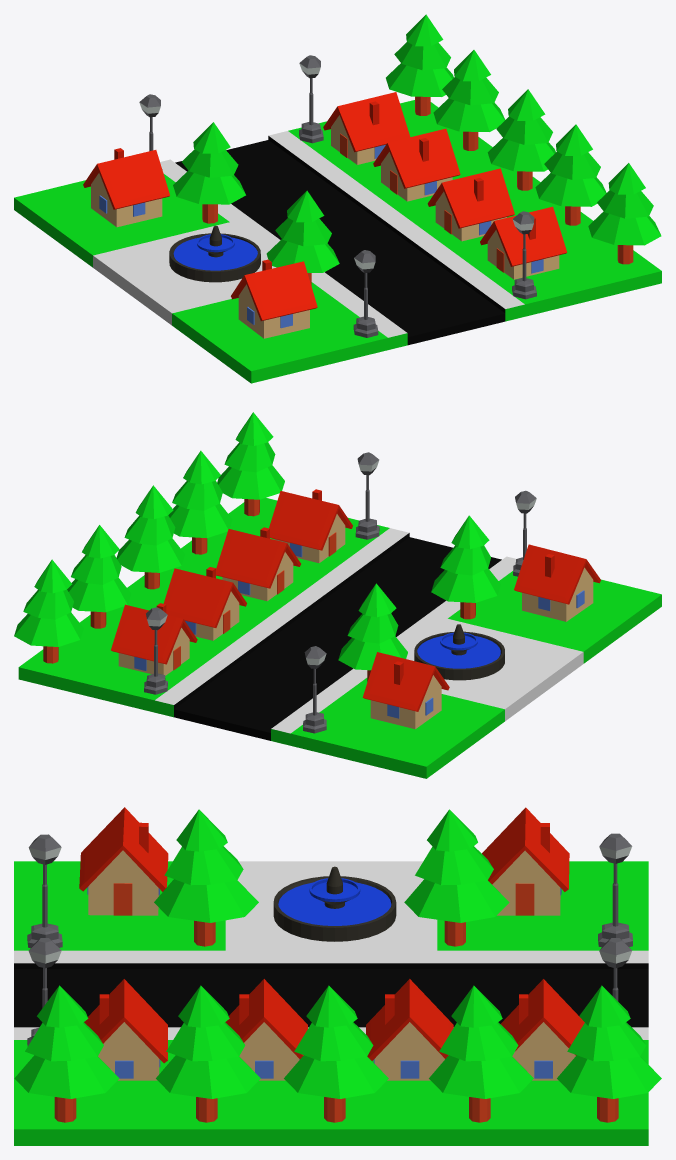
3 renders of one model, top to bottom at view 1: azimuth 30°, elevation 25°; view 2: azimuth 150°, elevation 25°; view 3: azimuth 270°, elevation 25°, orthographic. The views are drawn at different scales.
Visible parts, largest first — view 1: Cube.006_3, Cube.002_5, Cube.003_6, Cube.005_7, Cube.007_8, Cube.001_4, Cube.004_2, Cylinder.003_12, Cylinder.002_11, Cylinder.004_13, Cylinder.006_15, Cylinder_9 (+6 smaller); view 2: Cube.006_3, Cube.002_5, Cube.003_6, Cube.007_8, Cube.004_2, Cube.005_7, Cube.001_4, Cylinder.007_16, Cylinder.001_10, Cylinder.005_14, Cylinder.003_12, Cylinder.006_15 (+7 smaller); view 3: Cube.006_3, Cylinder.003_12, Cylinder.001_10, Cylinder.002_11, Cylinder.004_13, Cylinder.005_14, Cylinder.006_15, Cylinder.007_16, Cube.002_5, Cylinder_9, Cube.003_6, Cube.005_7 (+7 smaller).
Part boxes in pixels (x1,y1,x2,y2): Cube.006_3: [14, 100, 661, 383]; Cube.002_5: [231, 259, 317, 338]; Cube.003_6: [83, 148, 169, 227]; Cube.005_7: [373, 128, 460, 201]; Cube.007_8: [427, 168, 514, 241]; Cube.001_4: [323, 92, 410, 164]; Cube.004_2: [480, 206, 567, 279]; Cylinder.003_12: [588, 163, 661, 264]; Cylinder.002_11: [173, 122, 245, 223]; Cylinder.004_13: [535, 124, 606, 225]; Cylinder.006_15: [433, 50, 505, 150]; Cylinder_9: [169, 225, 260, 282]; Cube.006_3: [18, 498, 661, 778]; Cube.002_5: [514, 544, 600, 621]; Cube.003_6: [362, 652, 449, 729]; Cube.007_8: [216, 527, 300, 601]; Cube.004_2: [269, 489, 352, 563]; Cube.005_7: [163, 567, 246, 640]; Cube.001_4: [111, 603, 197, 675]; Cylinder.007_16: [14, 559, 83, 663]; Cylinder.001_10: [431, 515, 500, 619]; Cylinder.005_14: [116, 485, 184, 589]; Cylinder.003_12: [217, 412, 284, 516]; Cylinder.006_15: [67, 525, 131, 628]; Cube.006_3: [14, 861, 648, 1145]; Cylinder.003_12: [14, 985, 119, 1122]; Cylinder.001_10: [154, 809, 258, 946]; Cylinder.002_11: [404, 809, 509, 946]; Cylinder.004_13: [156, 985, 260, 1122]; Cylinder.005_14: [284, 985, 388, 1122]; Cylinder.006_15: [429, 985, 533, 1122]; Cylinder.007_16: [557, 985, 661, 1122]; Cube.002_5: [79, 807, 168, 915]; Cylinder_9: [273, 866, 396, 941]; Cube.003_6: [482, 807, 569, 915]; Cube.005_7: [366, 979, 453, 1080].
Bounding box in the file's own units: 18.75 × 4.73 × 18.5.
